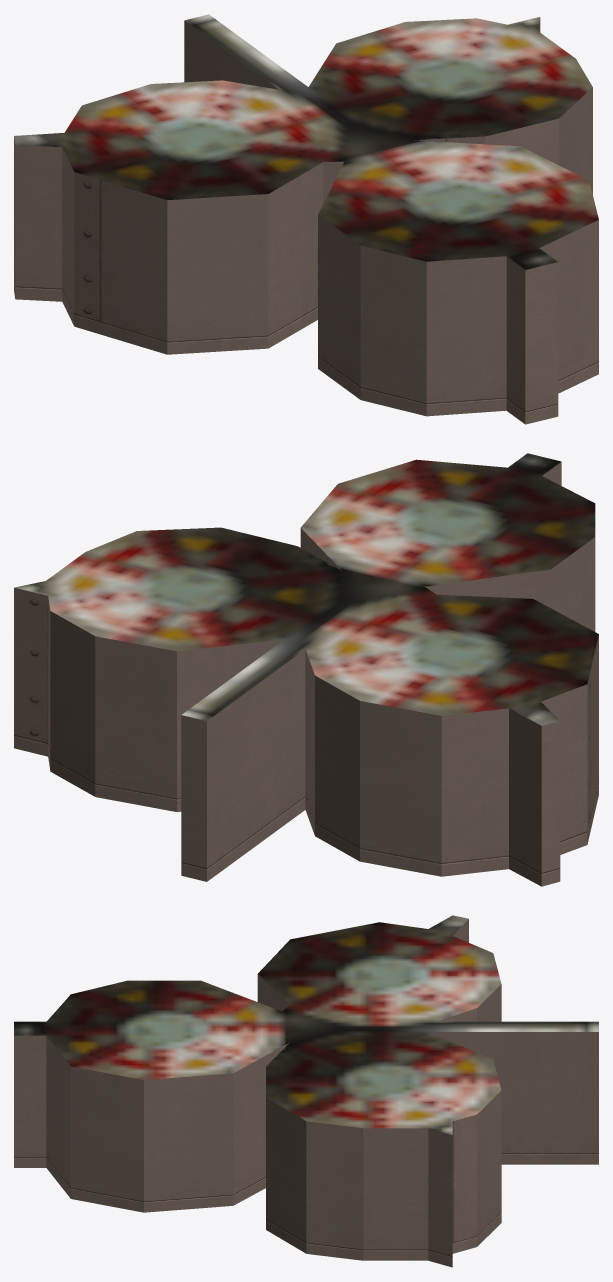
Rendered from fuel_tank_hard_43.glb.
3 renders of one model, top to bottom at view 1: azimuth 30°, elevation 25°; view 2: azimuth 150°, elevation 25°; view 3: azimuth 270°, elevation 25°, orthographic. The views are drawn at different scales.
Visible parts, largest first — view 1: buildings/saxarba/fuel_tanks/fuel_tank_hard_43; view 2: buildings/saxarba/fuel_tanks/fuel_tank_hard_43; view 3: buildings/saxarba/fuel_tanks/fuel_tank_hard_43.
Boxes of the visible parts, bbox=[...] form: buildings/saxarba/fuel_tanks/fuel_tank_hard_43: bbox=[14, 14, 598, 424]; buildings/saxarba/fuel_tanks/fuel_tank_hard_43: bbox=[14, 453, 598, 886]; buildings/saxarba/fuel_tanks/fuel_tank_hard_43: bbox=[14, 915, 598, 1267].
Bounding box in the file's own units: 64 × 18 × 72.
